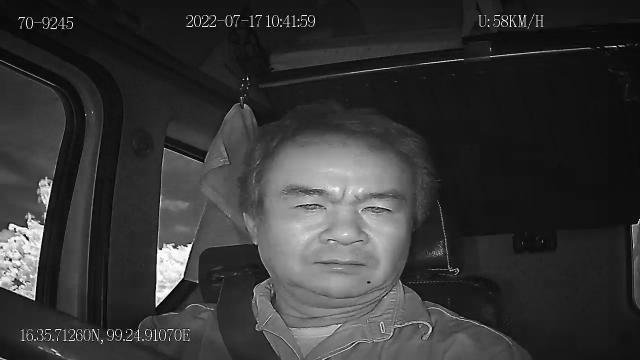SafeDriving: (352, 193, 404, 222), (282, 190, 334, 218)
Seatbelt: (215, 276, 283, 360)
